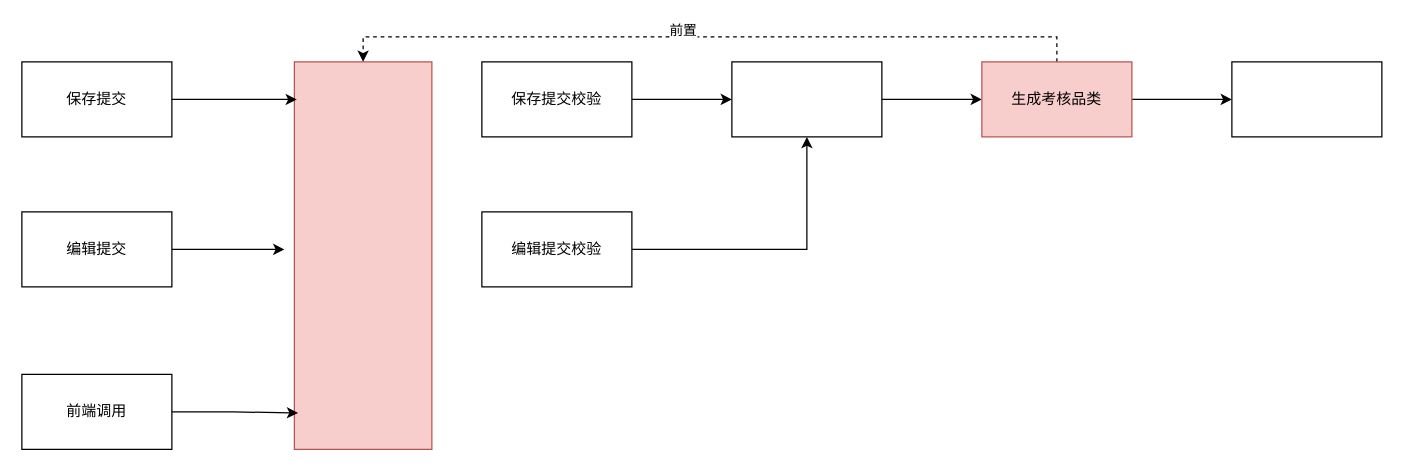
The diagram is 1404 pixels wide and 471 high, and some of its shapes have lost their labels. The centre of each missing label's shape, as x and y in pixels:
"保存主单" belongs at (x=806, y=99).
"保存明细" belongs at (x=1306, y=99).
"唯一性校验方法checkVendorScore" belongs at (x=362, y=255).
